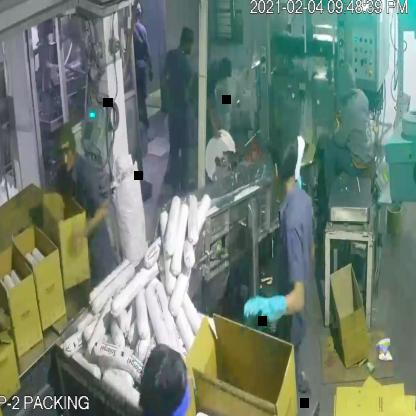glove: (233, 282, 290, 338)
no_glove: (64, 204, 115, 260), (202, 92, 222, 146)
